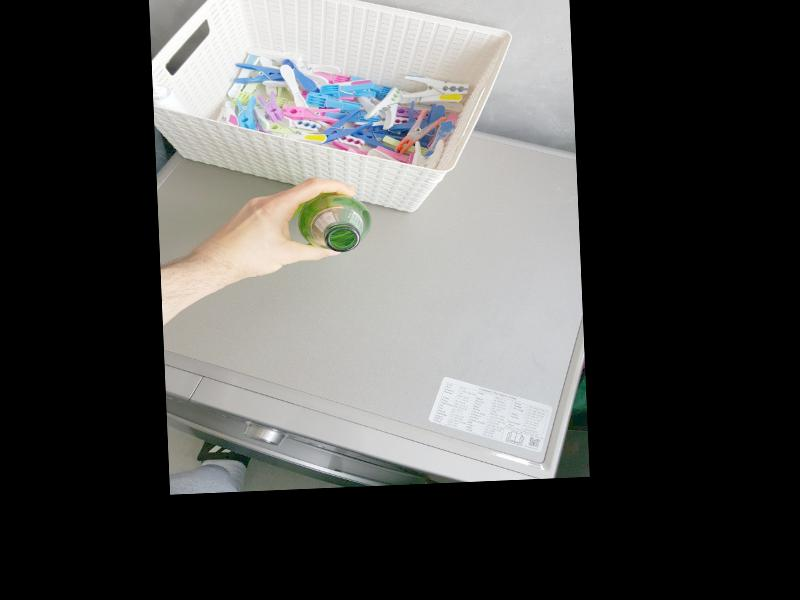Beer: (295, 191, 372, 255)
